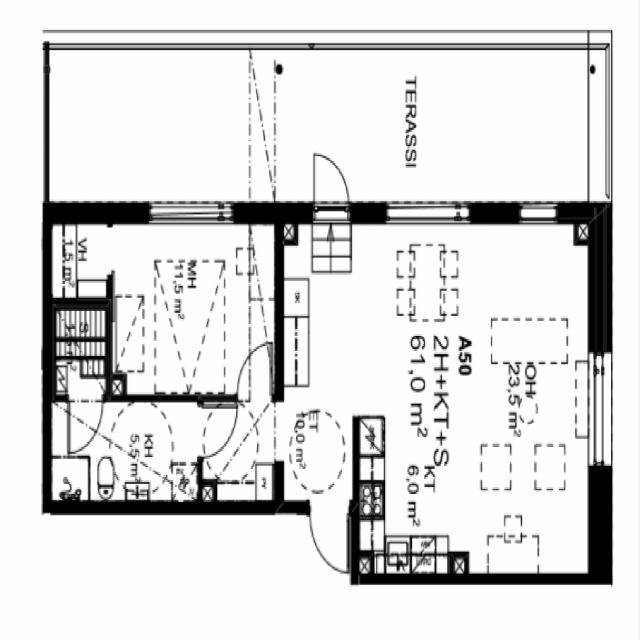door: (310, 501, 348, 572), (314, 150, 349, 224), (68, 394, 102, 452), (238, 344, 272, 401), (198, 407, 236, 457)
